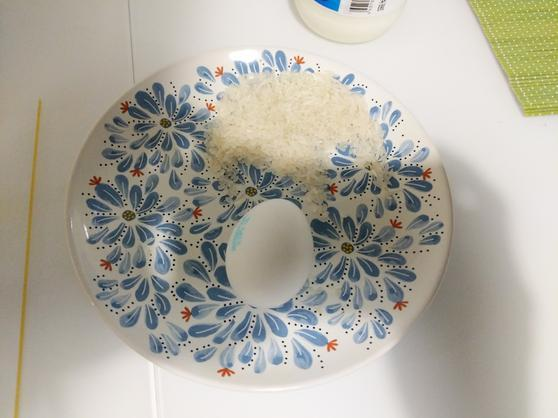egg: (213, 188, 332, 313)
rice: (184, 56, 408, 198)
